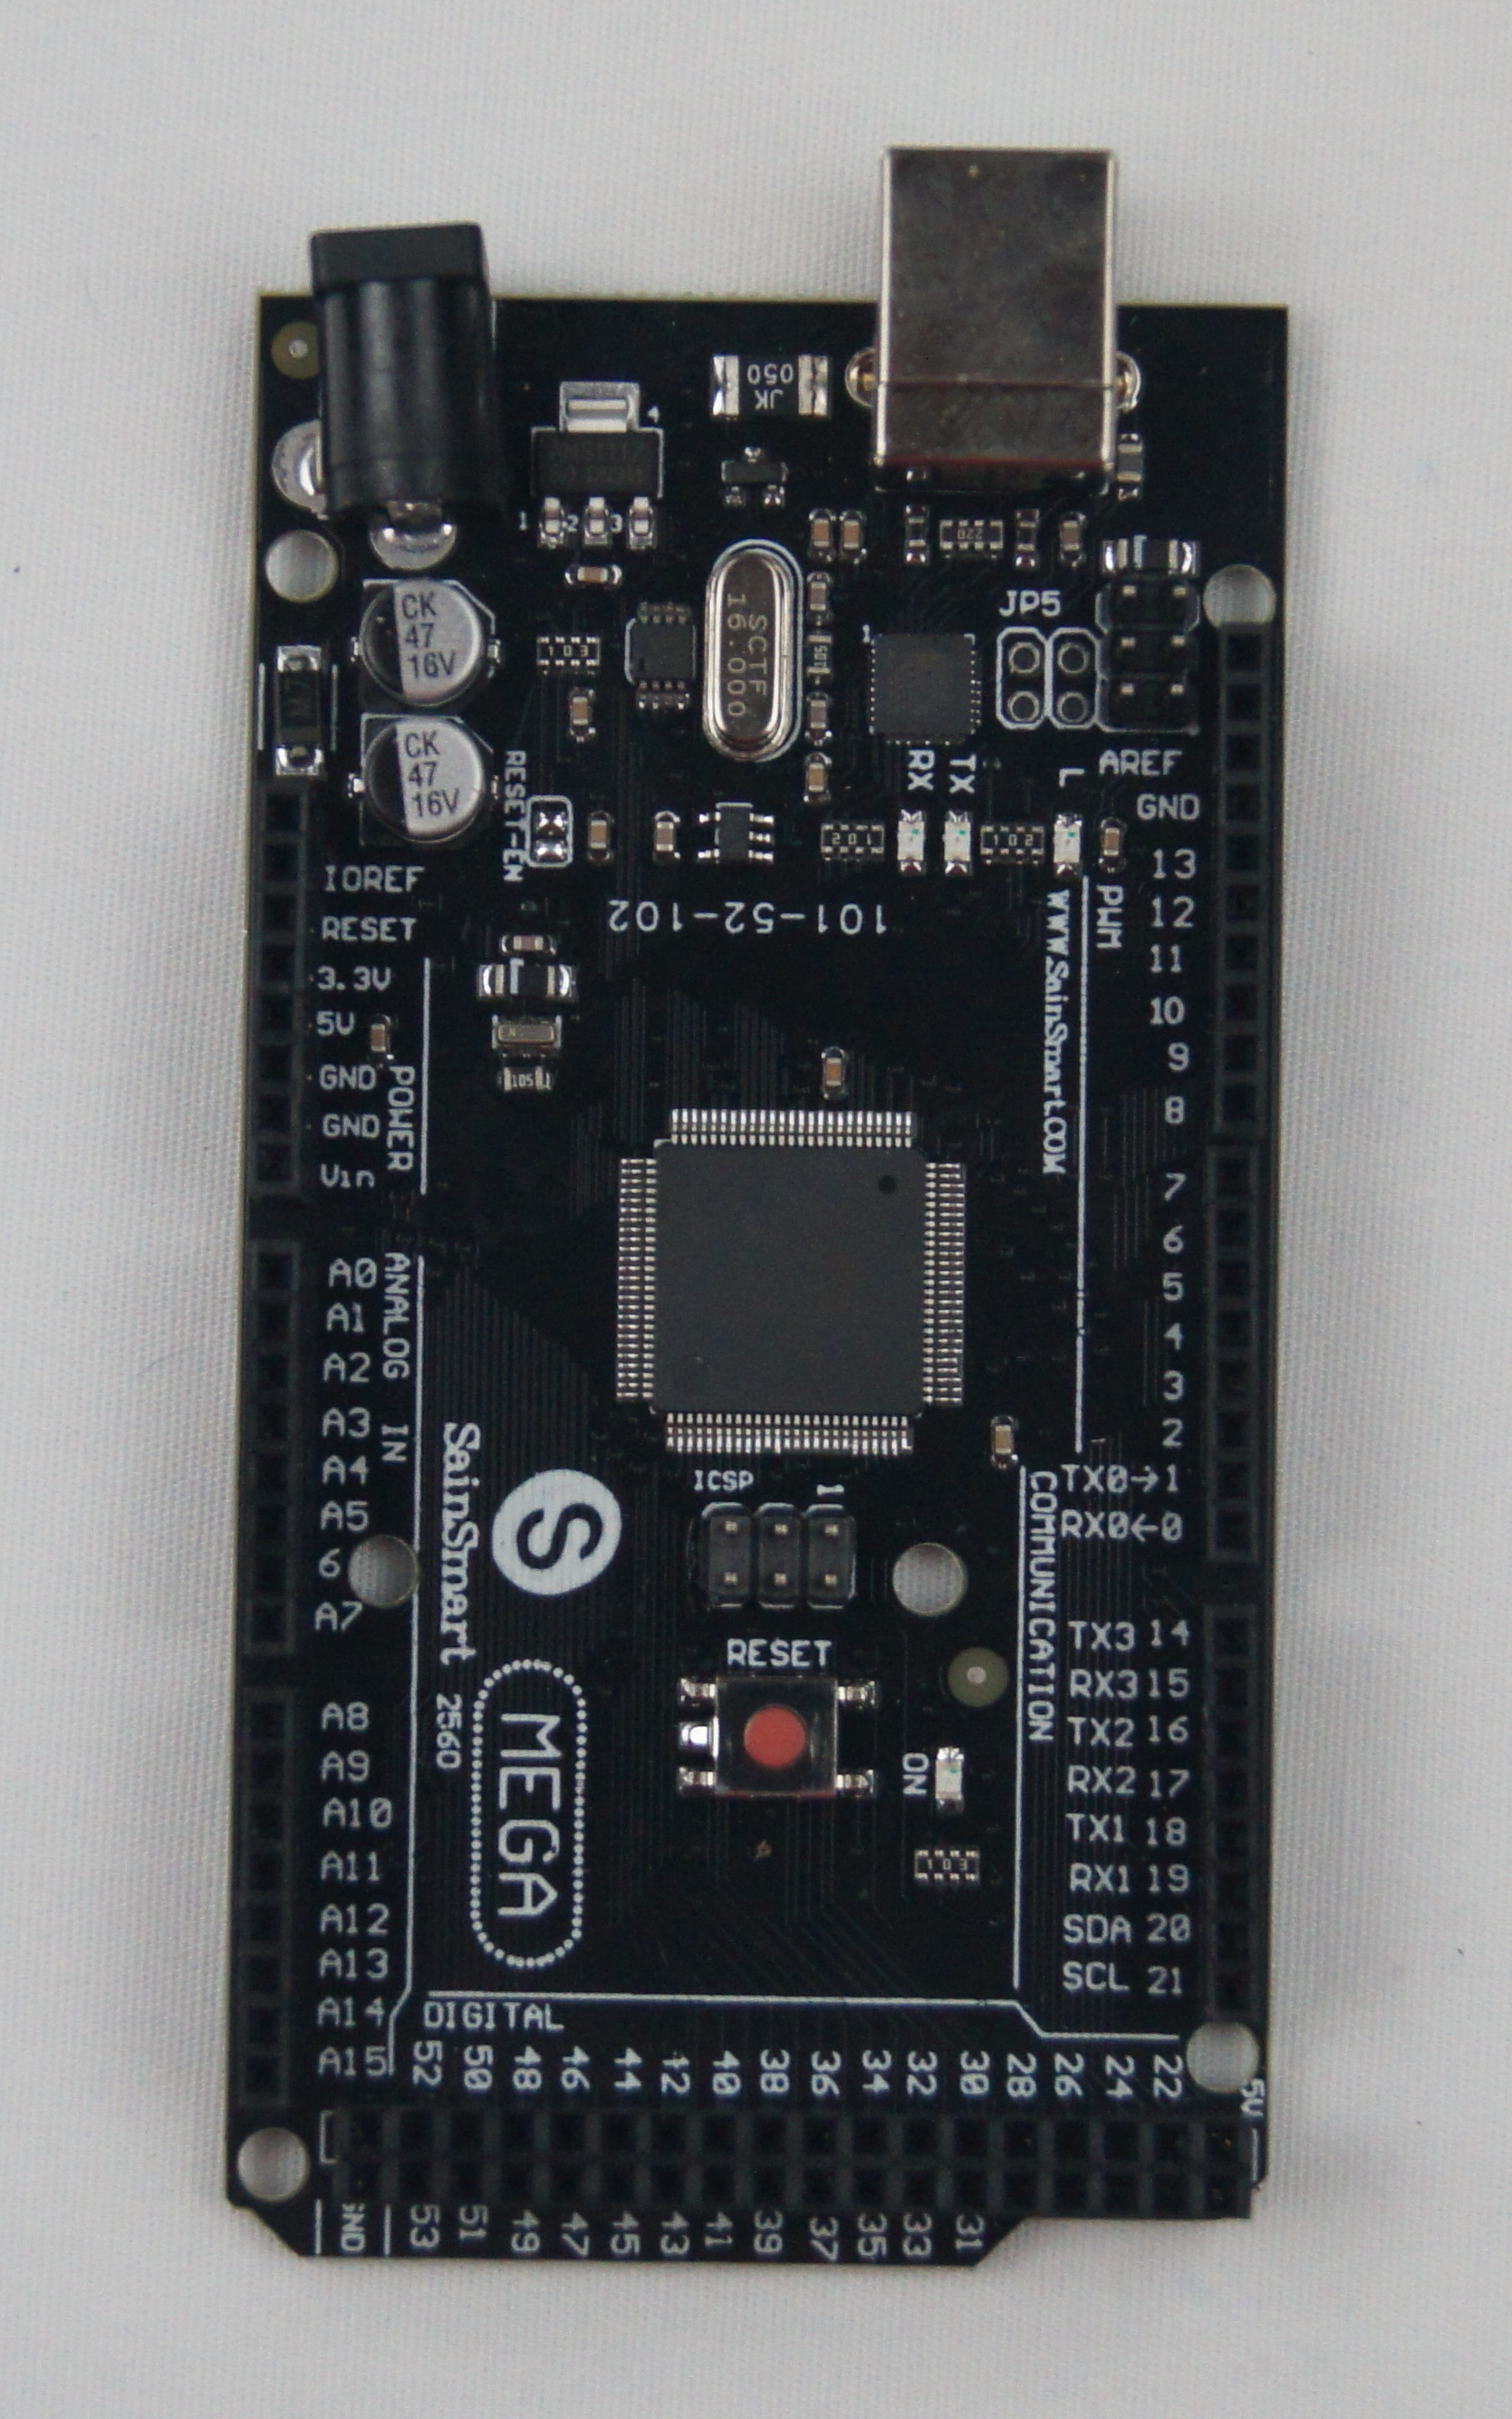connector: (333, 2102, 1254, 2220), (307, 219, 502, 536), (1212, 623, 1272, 1137), (1202, 1597, 1266, 2022), (239, 1240, 301, 1665), (249, 778, 310, 1198), (1205, 1144, 1266, 1562), (237, 1682, 289, 2112), (695, 1499, 859, 1606), (1104, 576, 1202, 726), (998, 629, 1045, 726), (1052, 629, 1094, 728)
